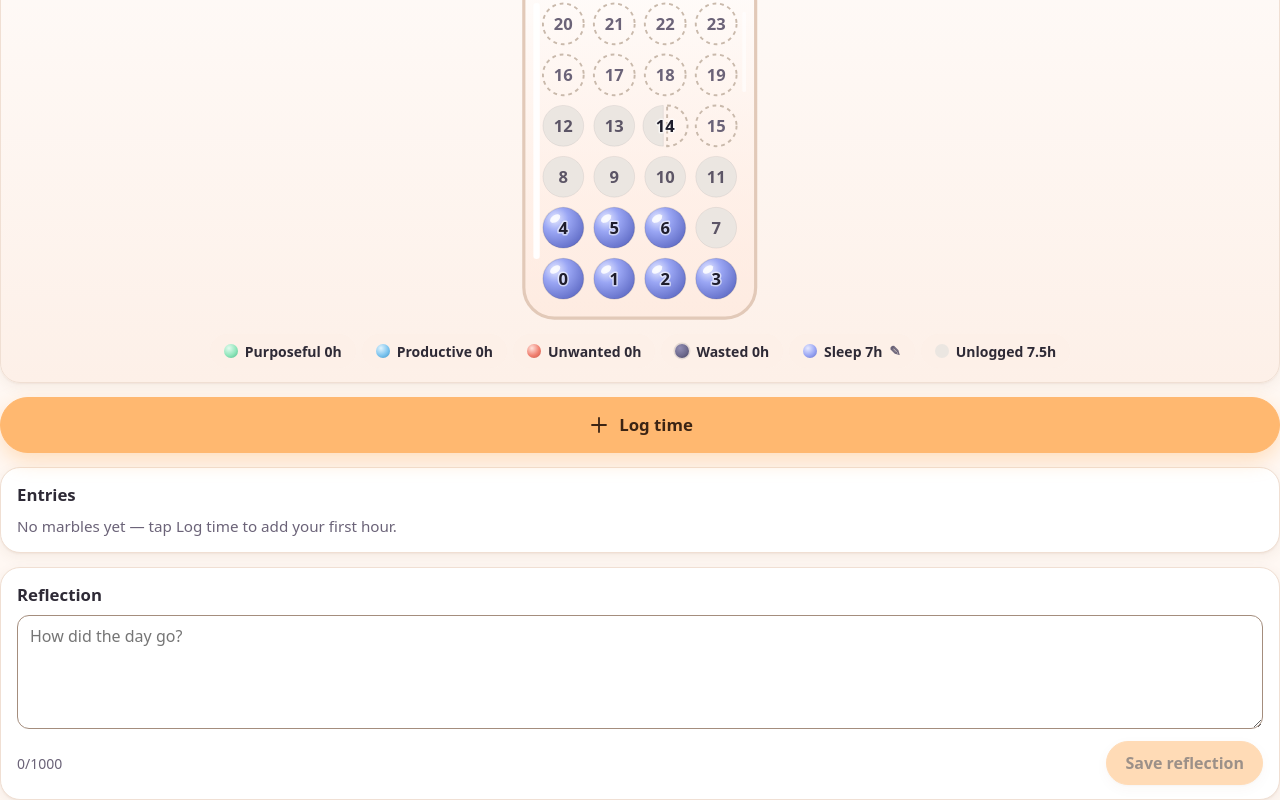
DayView › shows a toast, not an alert, when a write is rejected
The width and height of the screenshot is (1280, 800).
(page scrolled)
Click the button "Log time".
click(640, 425)  # box [0,397,1279,453]
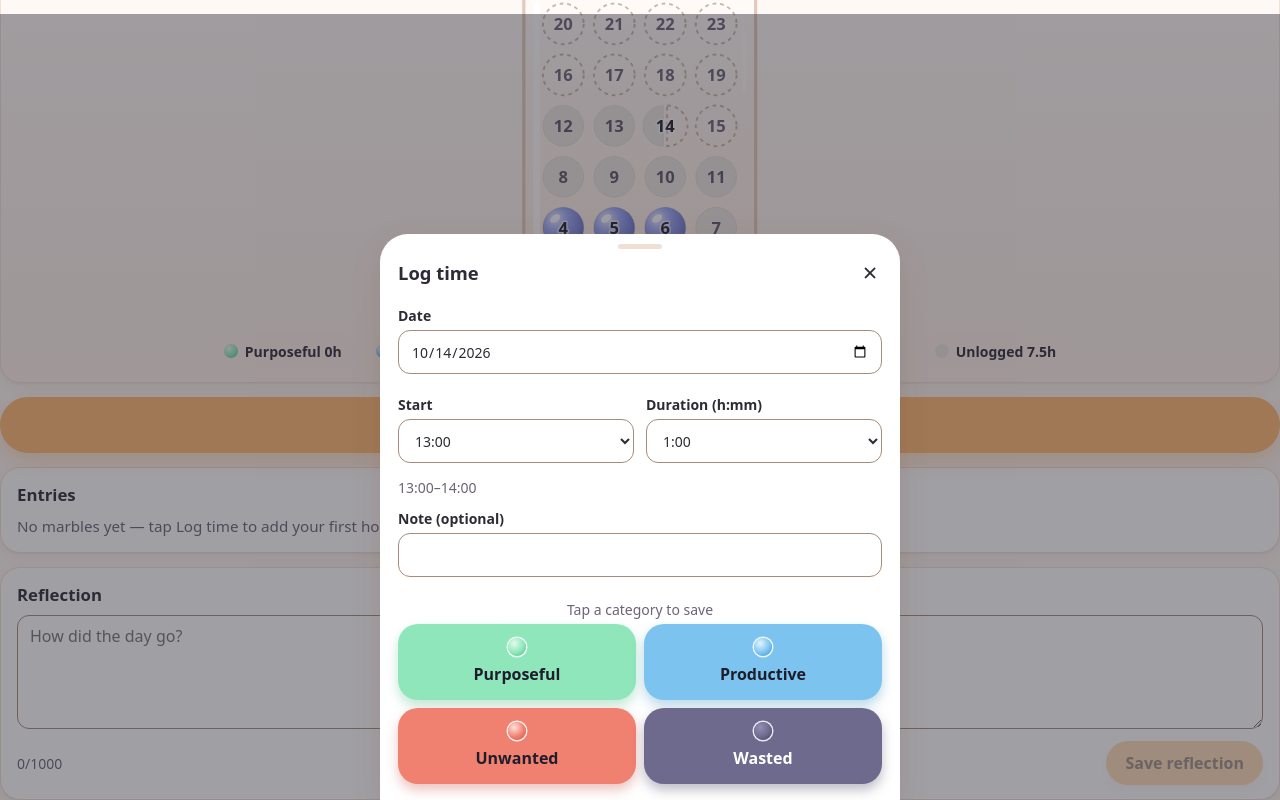
Check: the button "Productive" is enabled
Click the button "Productive".
click(763, 662)  # box [644,624,882,700]
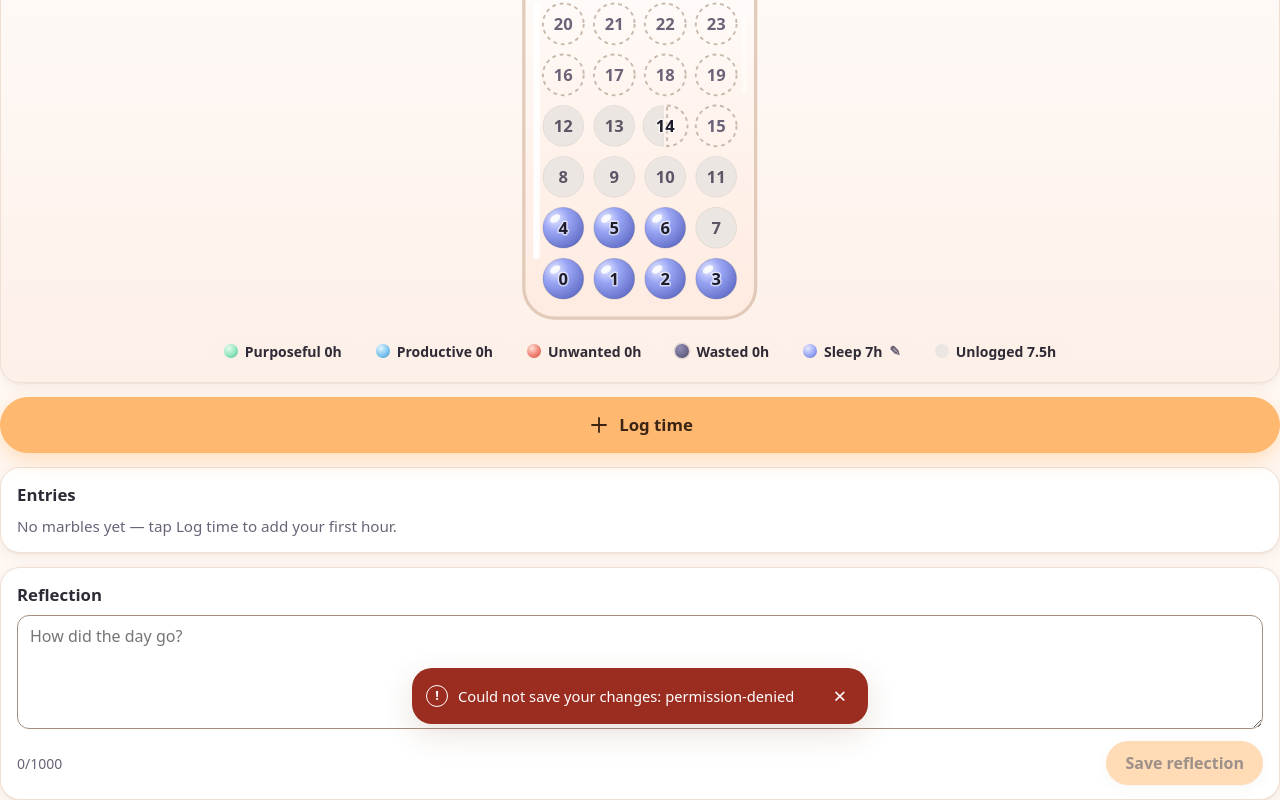
Check: the message shows "Could not save your changes: permission-denied", box [458,686,794,706]
Click the button named "Dismiss".
click(840, 696)  # box [818,674,862,718]
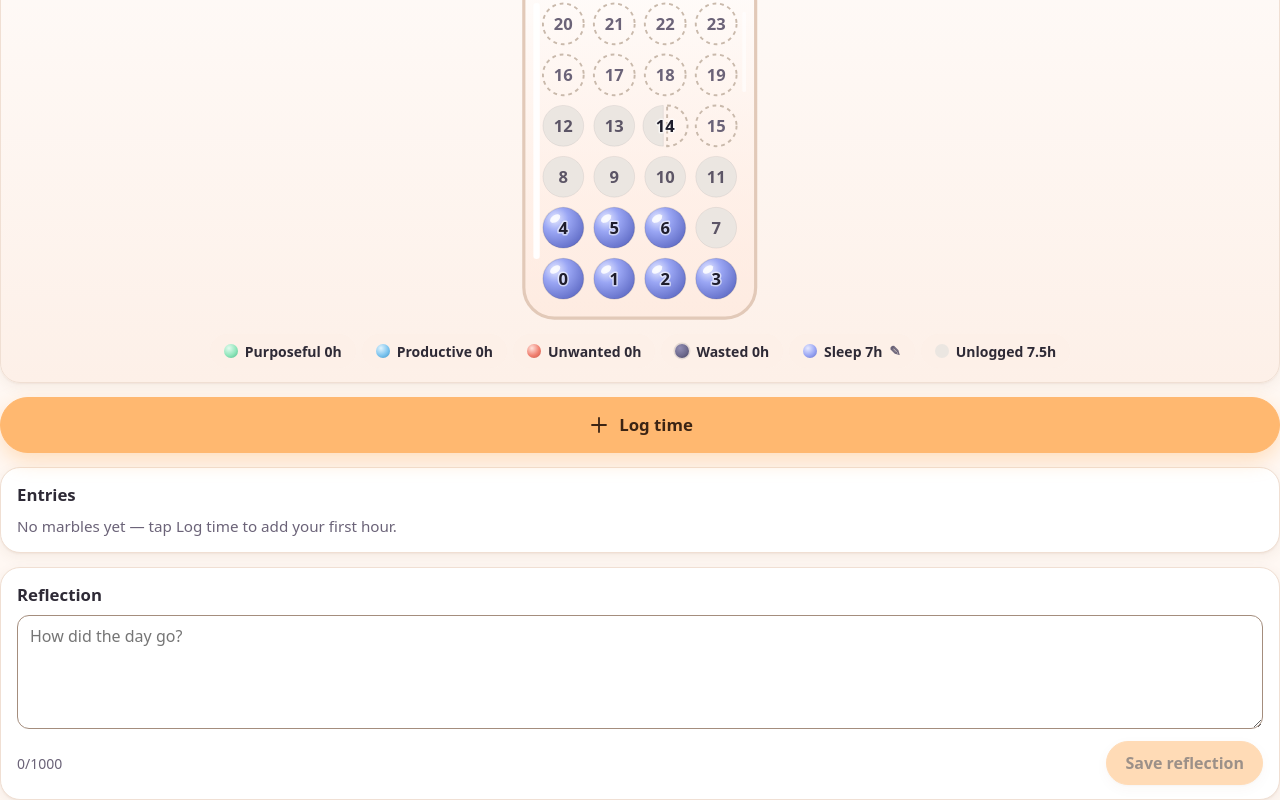
Check: the message "! Could not save your changes: permission-denied ×" is gone
